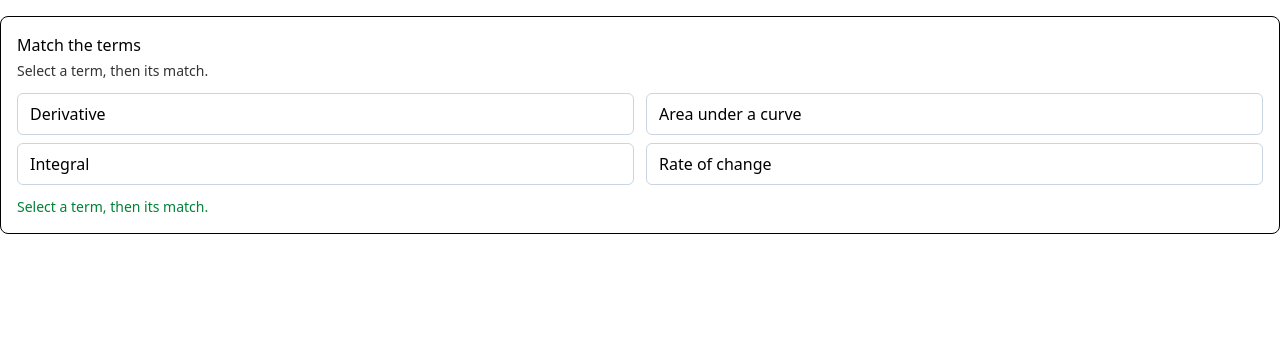
Test: MatchingPairs › completing all pairs shows the completion banner and reports notifyEngagement (never src/progress directly)
Expected: the text "Derivative" is shown, [30,103,106,125]
Click the button "Derivative".
click(68, 114)  # box [17,93,634,135]
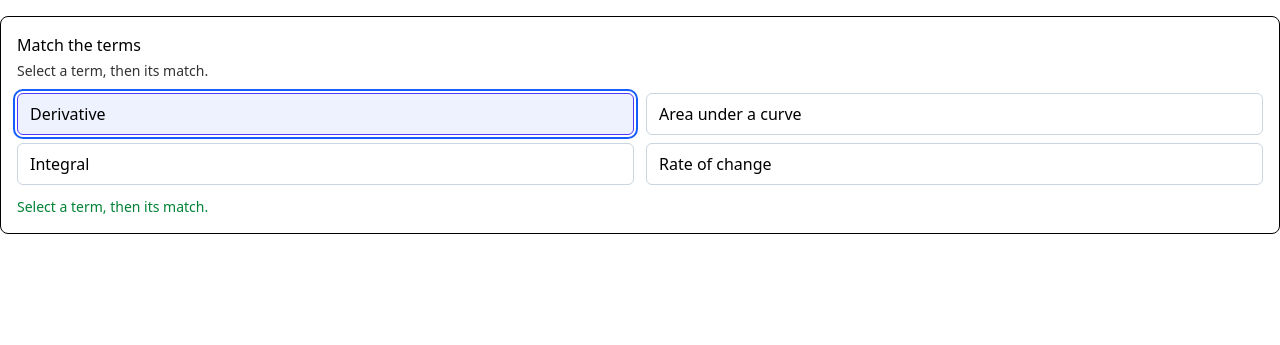
Click the button "Rate of change".
click(715, 164)  # box [646,143,1263,185]
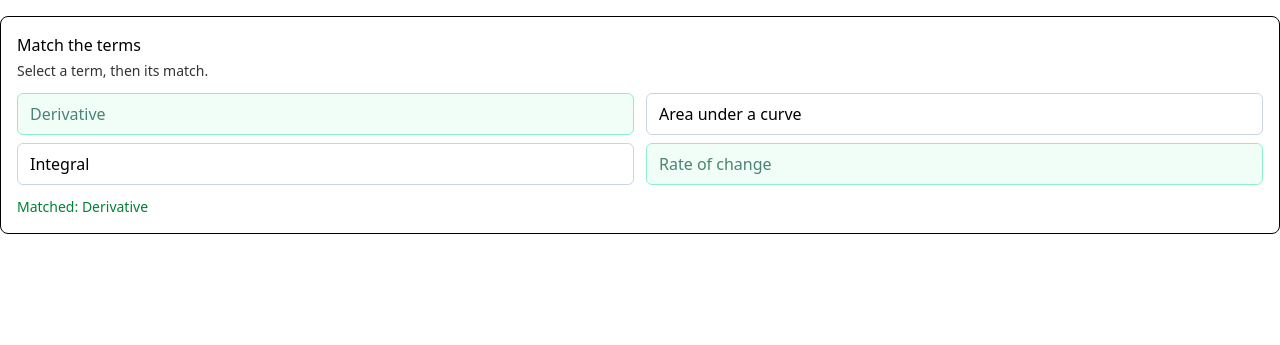
Click the button "Integral".
click(60, 164)  # box [17,143,634,185]
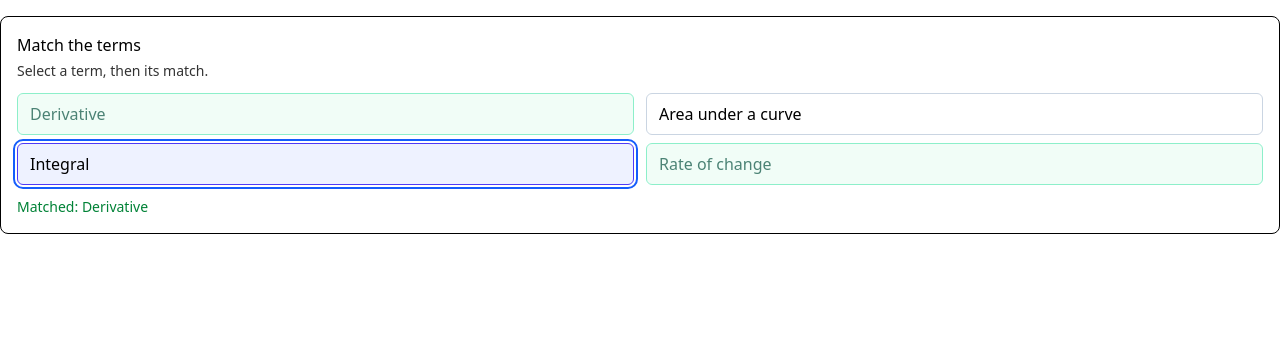
Click the button "Area under a curve".
click(730, 114)  # box [646,93,1263,135]
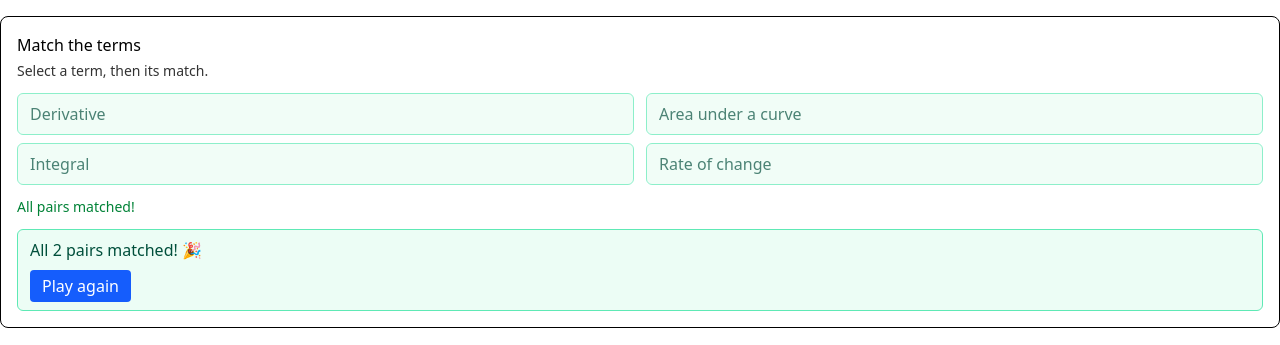
Expected: the text "All 2 pairs matched! 🎉" is shown, [30,239,202,261]
"Play again" resets the board without re-firing notifyEngagement.
Click the button "Play again".
click(80, 286)  # box [30,270,131,302]
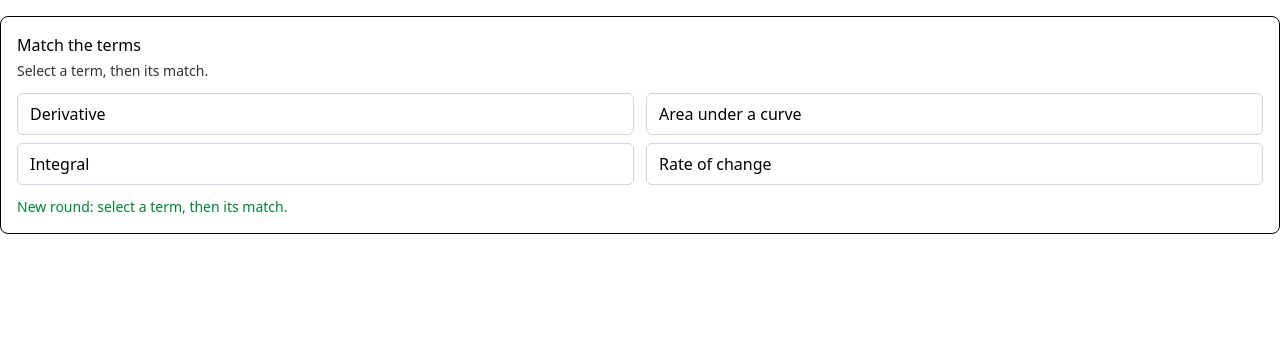
Expected: the button "Derivative" is enabled, [17,93,634,135]
